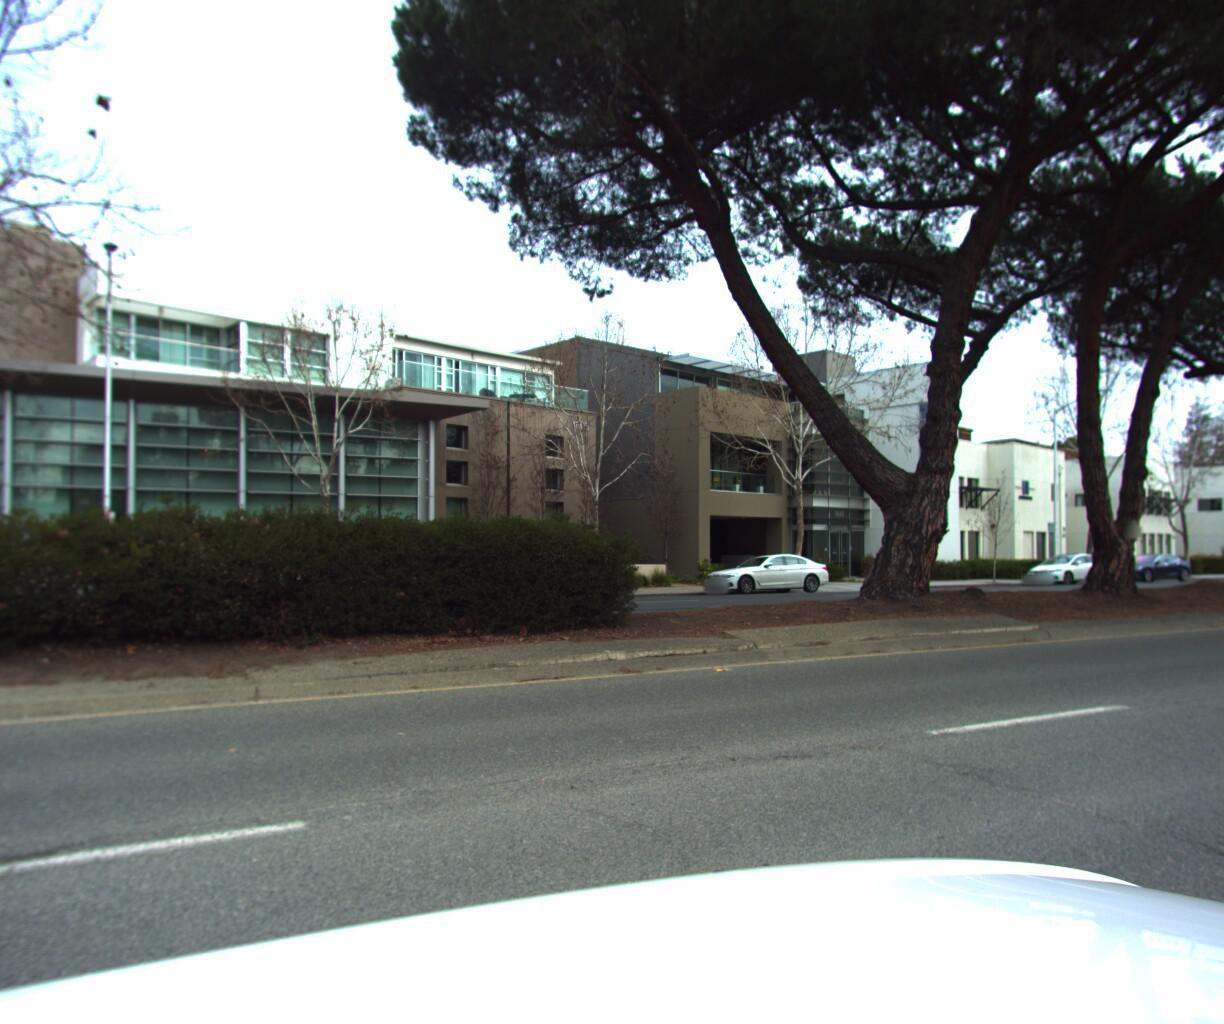car: (694, 548, 836, 595), (1017, 549, 1118, 586), (1098, 548, 1195, 582)
